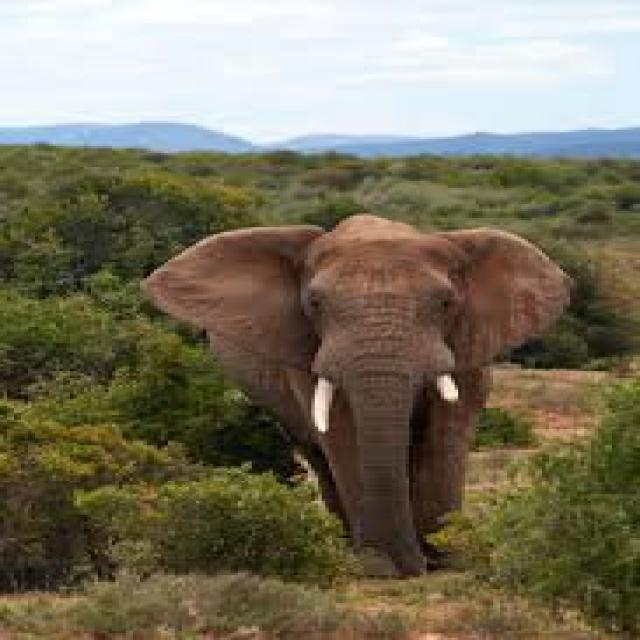elephant: (143, 216, 567, 573)
